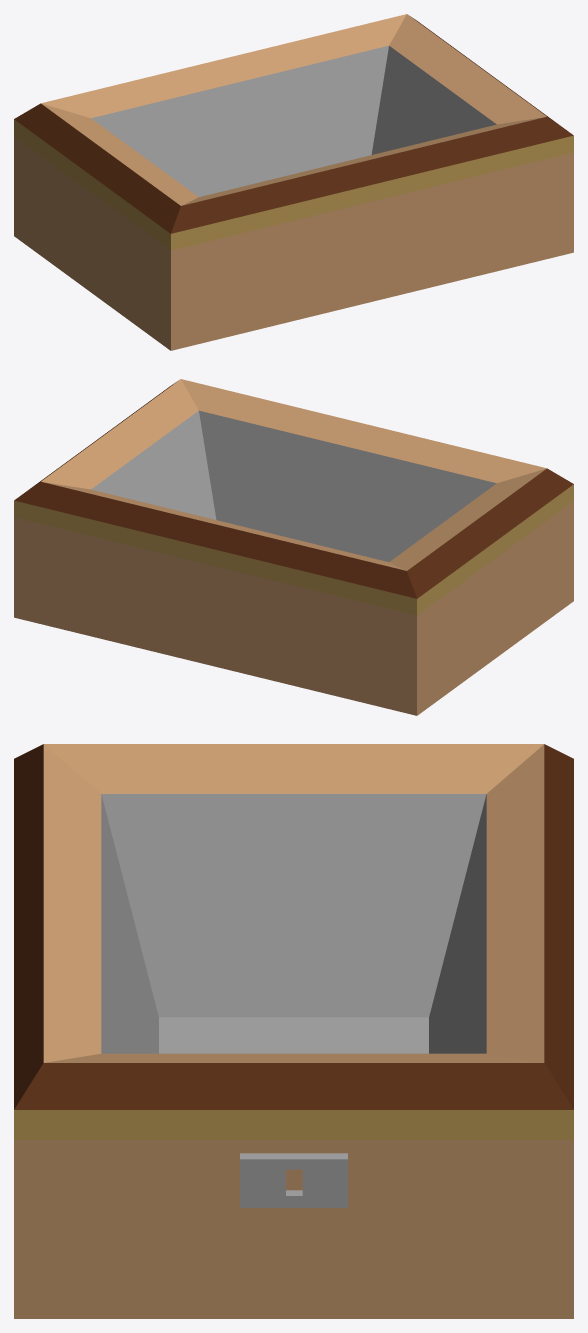
The model's file is Basket.fbx.
The picture shows the model from 3 angles, top to bottom: view 1: azimuth 30°, elevation 25°; view 2: azimuth 150°, elevation 25°; view 3: azimuth 270°, elevation 25°; orthographic projection. The views are drawn at different scales.
Visible parts, largest first — view 1: pCube1; view 2: pCube1; view 3: pCube1, pCube2.
Part boxes in pixels (x1,y1,x2,y2): pCube1: (14,14,573,350); pCube1: (14,379,573,715); pCube1: (14,744,573,1318); pCube2: (240,1153,347,1207).
Size of the model in its own units: 15.68 by 4.91 by 10.39.
